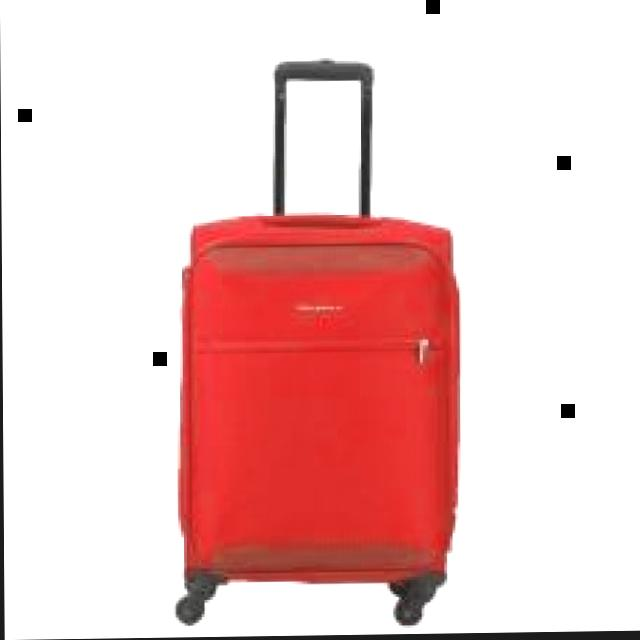luggage: (158, 198, 475, 631)
